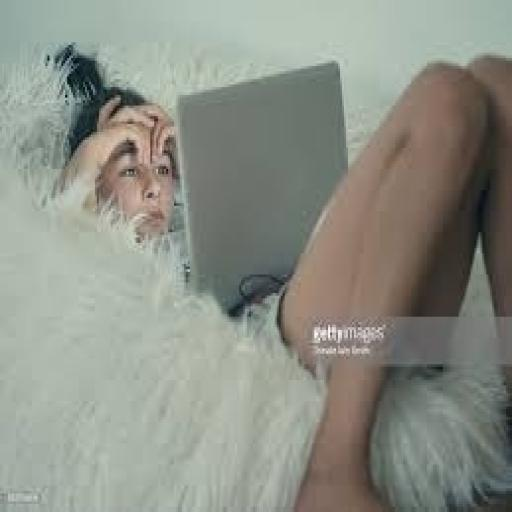using_laptop: (172, 55, 350, 314)
